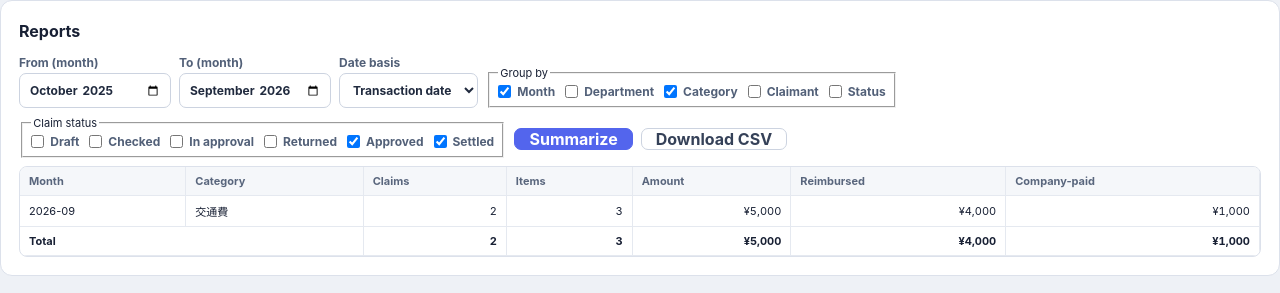
ReportsLedger › 正常: グループ・基準日・状態を変えて集計し直す
Check: the table named "Expense summary" is shown, box [20,167,1260,256]
Click the checkbox labelled "Category": (671,92) [664,85,677,98]
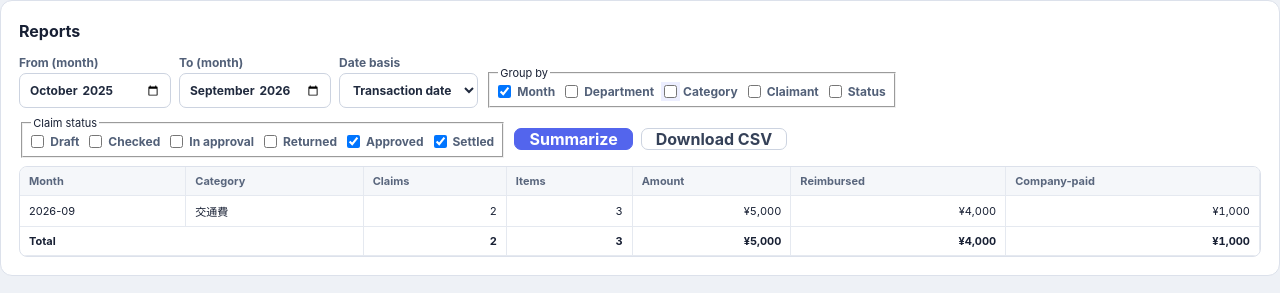
Click the checkbox labelled "Department": (572,92) [565,85,578,98]
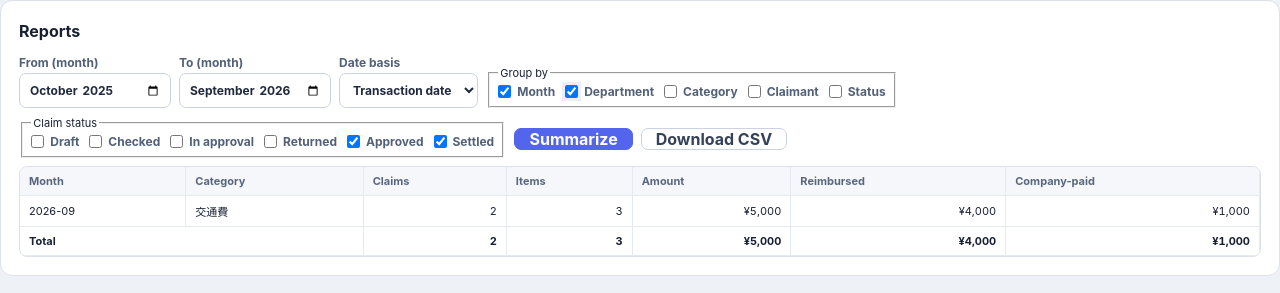
Click the checkbox labelled "Claimant": (754,92) [748,85,761,98]
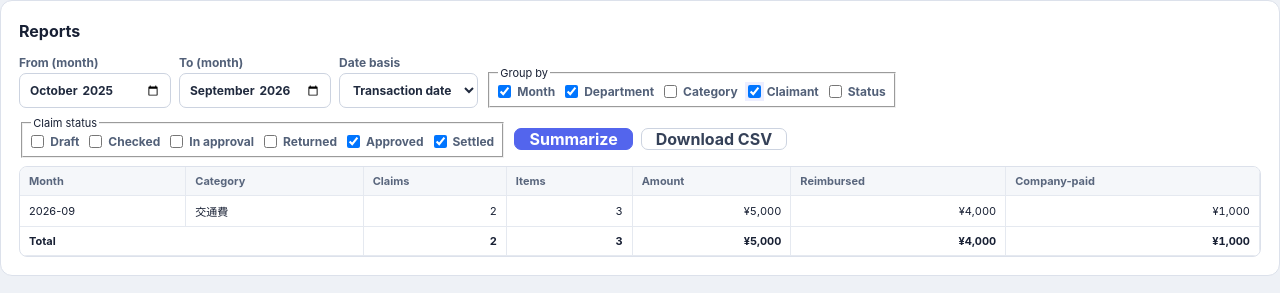
Click the checkbox labelled "Status": (835,92) [829,85,842,98]
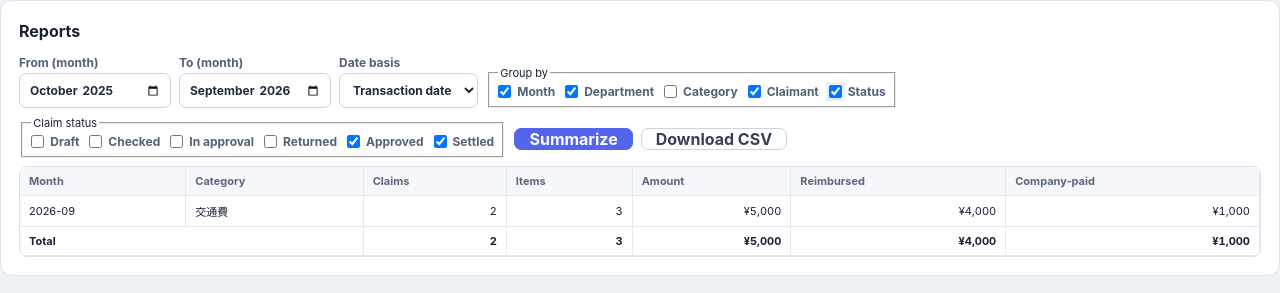
Select "Approval date" in the dropdown labelled "Date basis": (408,90) [339,73,478,108]
Click the checkbox labelled "Approved": (354,141) [347,135,360,148]
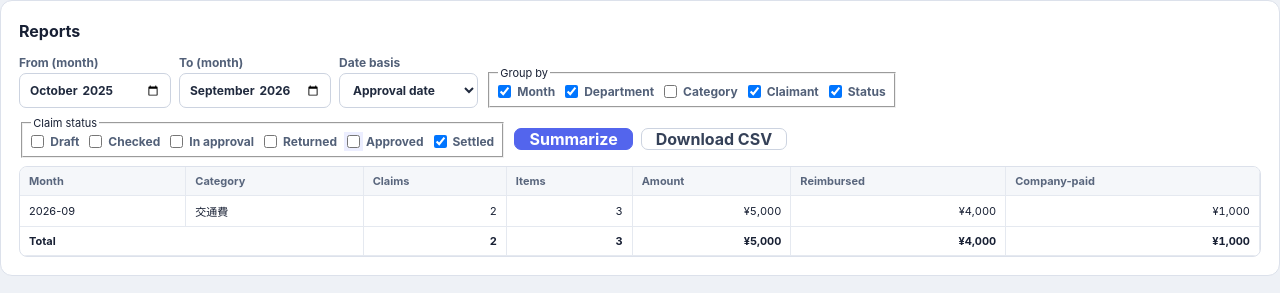
Click the button "Summarize": (574,139) [514,128,633,150]
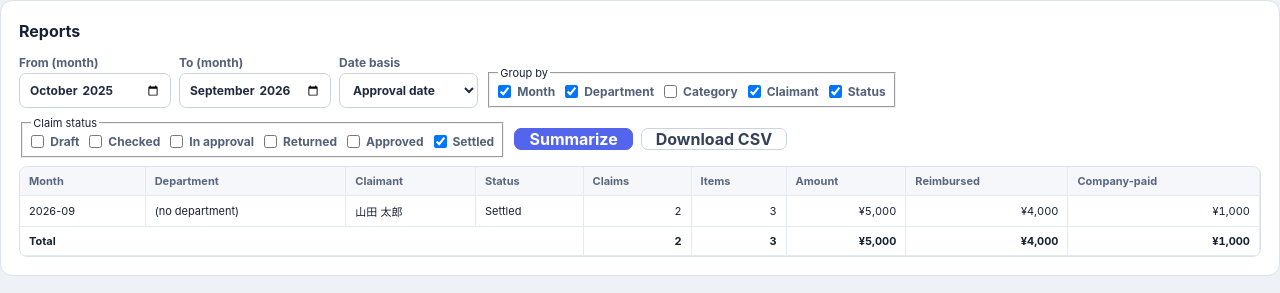
Check: the text "(no department)" is shown, box [145,195,346,226]
Check: the text "山田 太郎" is shown, box [346,195,475,226]
Check: the text "Settled" is shown, box [475,195,583,226]
